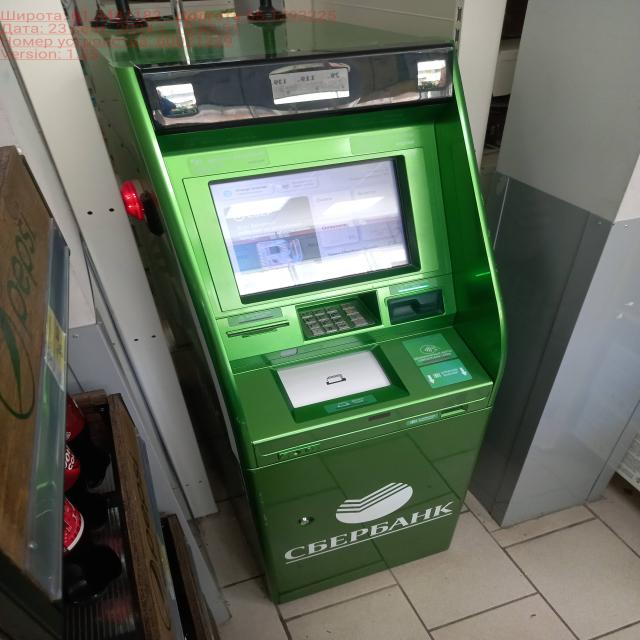bank: (68, 16, 511, 602)
